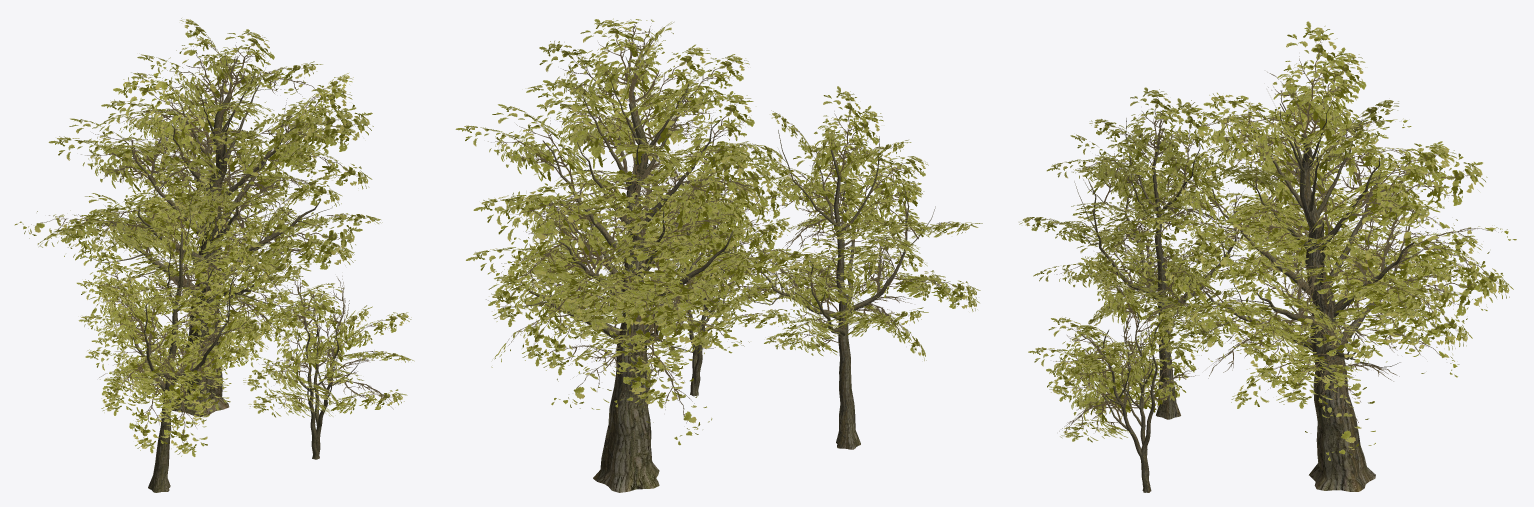
File: oak_trees.glb
3 renders of one model, left to right at view 1: azimuth 30°, elevation 25°; view 2: azimuth 150°, elevation 25°; view 3: azimuth 270°, elevation 25°, orthographic. The views are drawn at different scales.
Parts seen in each view (by area): view 1: treelarge, Treemedium, leafplanes_4_23, leafplanes_4_7, leafplanes_4_39, leafplanes_10_3, Treesmall, leafplanes_4_13_2, leafplanes_4_13_3_40_2, leafplanes_3, leafplanes_5, leafplanes_4_13_3_67 (+76 smaller); view 2: treelarge, Treemedium, leafplanes_10_195, leafplanes_10_177, leafplanes_4_13, leafplanes_4_38, leafplanes_10_108, leafplanes_10_9, leafplanes_10_117, leafplanes_4_6, leafplanes_4_55, leafplanes_4_58 (+71 smaller); view 3: treelarge, Treemedium, leafplanes_4_13_3, Treesmall, leafplanes_4_60, leafplanes_4_13_1, leafplanes_4_52, leafplanes_10_93_1, leafplanes_10_78, leafplanes_4_37, leafplanes_10_114, leafplanes_4_41 (+78 smaller).
Part boxes in pixels (x1,y1,x2,y2): treelarge: [80, 53, 338, 416]; Treemedium: [123, 189, 255, 492]; leafplanes_4_23: [113, 77, 214, 156]; leafplanes_4_7: [260, 212, 362, 266]; leafplanes_4_39: [222, 102, 326, 168]; leafplanes_10_3: [152, 150, 221, 217]; Treesmall: [288, 292, 374, 459]; leafplanes_4_13_2: [209, 29, 274, 94]; leafplanes_4_13_3_40_2: [156, 384, 212, 456]; leafplanes_3: [66, 195, 168, 249]; leafplanes_5: [54, 211, 155, 252]; leafplanes_4_13_3_67: [128, 377, 181, 453]; treelarge: [486, 56, 760, 492]; Treemedium: [740, 130, 935, 449]; leafplanes_10_195: [616, 325, 692, 408]; leafplanes_10_177: [492, 243, 579, 326]; leafplanes_4_13: [580, 18, 661, 99]; leafplanes_4_38: [631, 271, 731, 353]; leafplanes_10_108: [598, 165, 675, 236]; leafplanes_10_9: [663, 148, 750, 232]; leafplanes_10_117: [522, 277, 607, 366]; leafplanes_4_6: [494, 191, 611, 287]; leafplanes_4_55: [538, 78, 635, 171]; leafplanes_4_58: [492, 104, 587, 189]; treelarge: [1174, 87, 1435, 491]; Treemedium: [1074, 118, 1241, 419]; leafplanes_4_13_3: [1273, 21, 1348, 134]; Treesmall: [1087, 311, 1162, 492]; leafplanes_4_60: [1343, 144, 1454, 211]; leafplanes_4_13_1: [1288, 47, 1366, 139]; leafplanes_4_52: [1365, 153, 1487, 224]; leafplanes_10_93_1: [1203, 92, 1304, 165]; leafplanes_10_78: [1231, 232, 1310, 300]; leafplanes_4_37: [1275, 355, 1361, 408]; leafplanes_10_114: [1196, 207, 1280, 277]; leafplanes_4_41: [1389, 261, 1501, 326].
Bounding box in the file's own units: 1.97 × 2.04 × 2.08.
2 materials, 2 textured.
